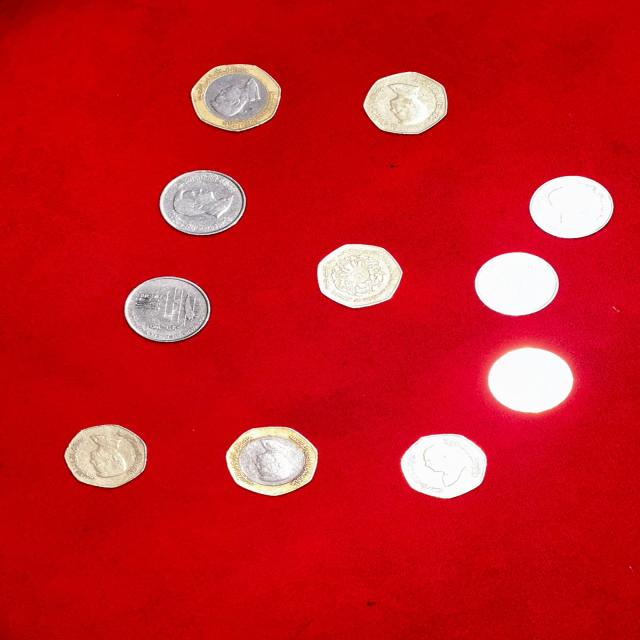10-coins: (156, 170, 250, 239), (124, 276, 210, 344)
25-coins: (399, 433, 489, 500), (316, 240, 404, 308), (63, 423, 150, 489), (362, 70, 450, 134)
5-coins: (488, 348, 575, 413), (528, 175, 616, 239), (476, 250, 560, 317)
50-coins: (223, 422, 324, 497), (187, 61, 286, 137)
